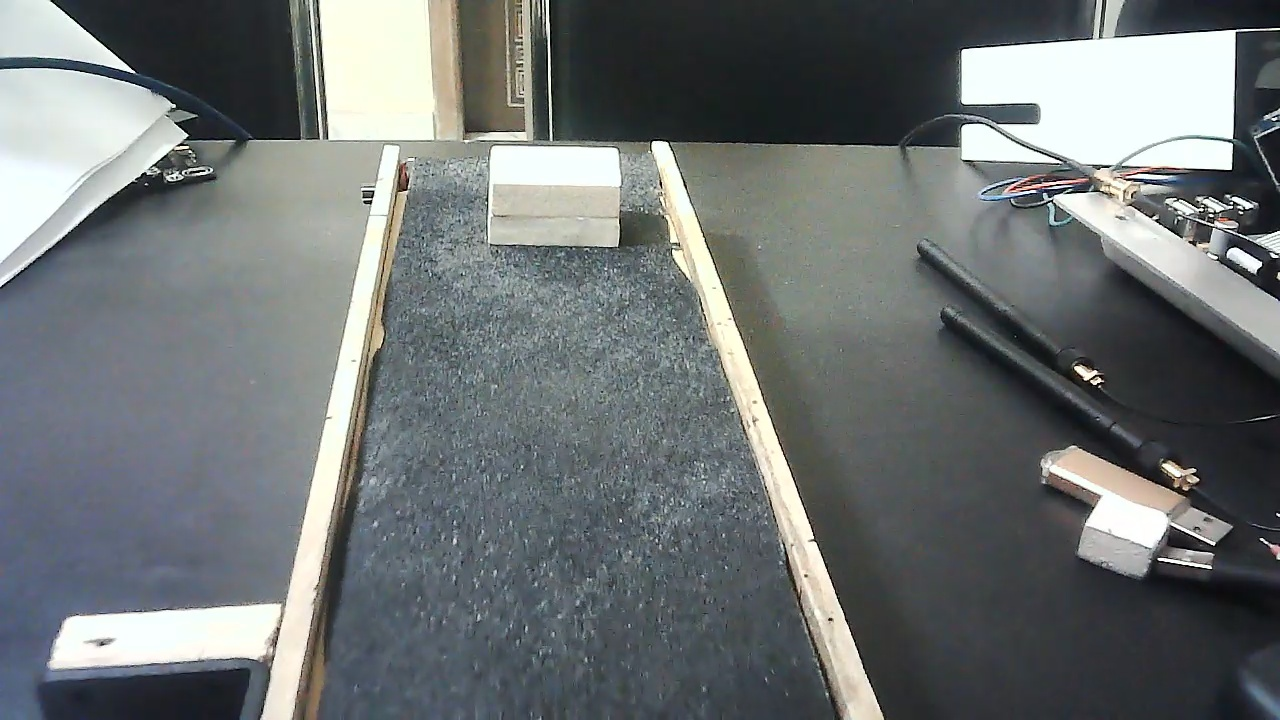BIG: (487, 132, 622, 267)
